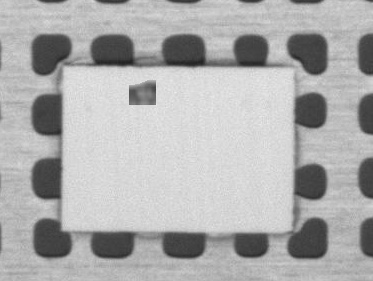DIE_INK: (129, 77, 156, 105)
